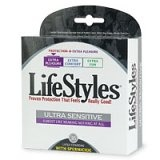grozi_91: (21, 5, 142, 156)
